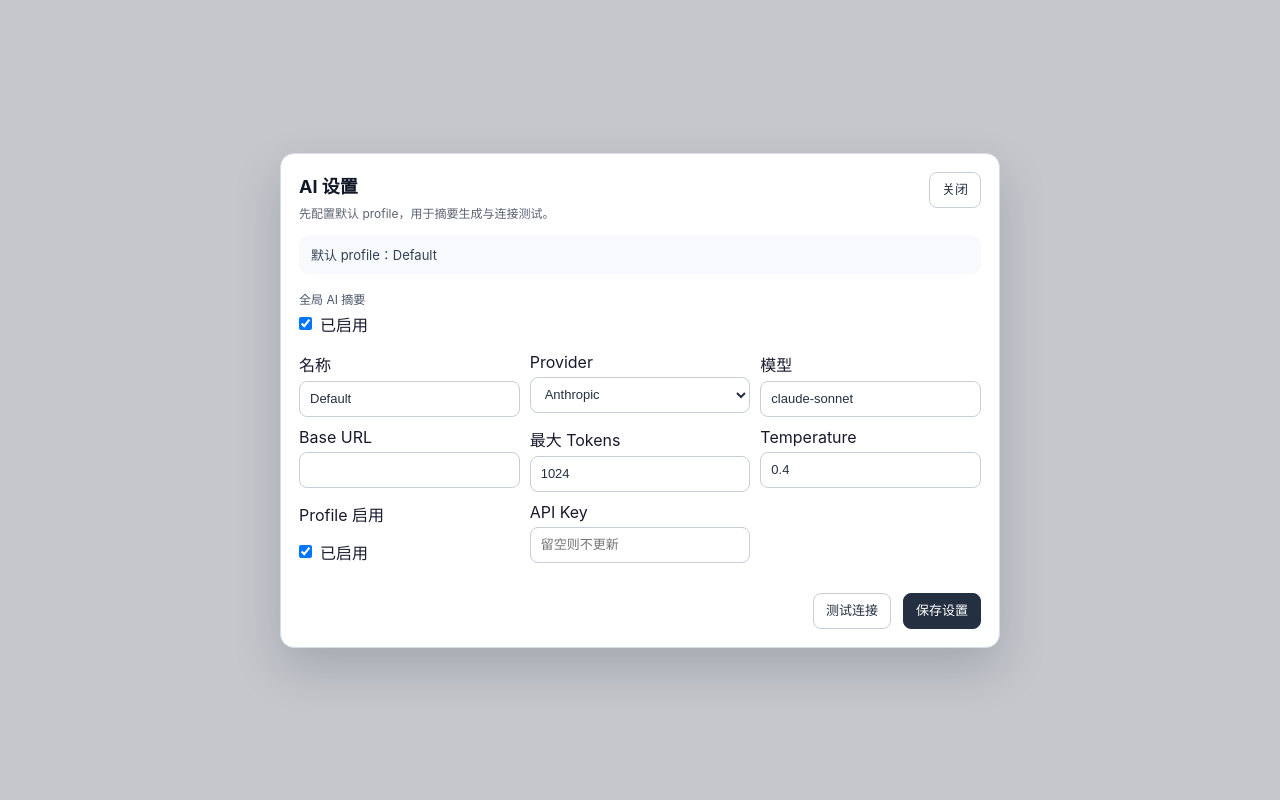
Test: AiSettingsDialog › tests the current form values before saving
Replace the text in the field labelled "名称" with "Draft Profile": (409, 398) x1=299 y1=380 x2=520 y2=416
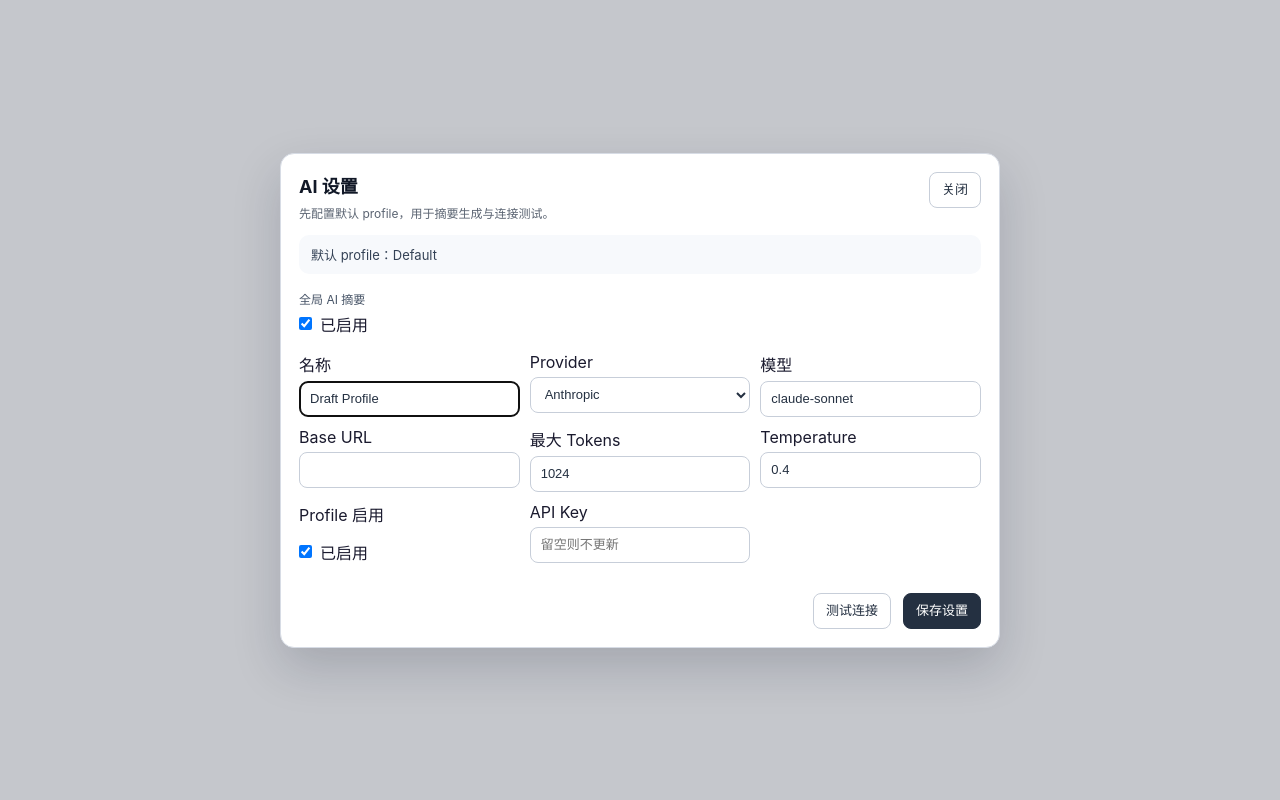
Replace the text in the field labelled "模型" with "claude-3-7-sonnet": (871, 398) x1=760 y1=380 x2=981 y2=416
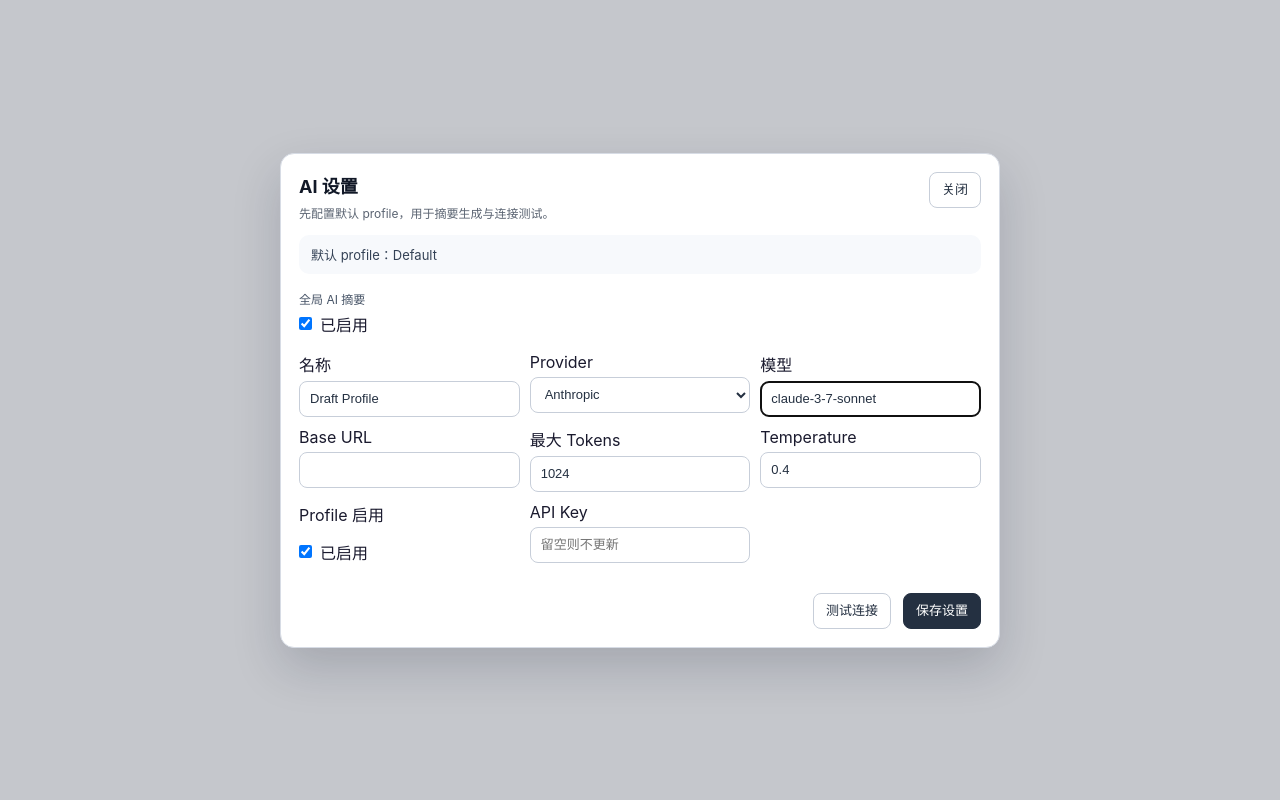
In the password field labelled "API Key": (640, 544) x1=530 y1=526 x2=750 y2=562, type "sk-live-test"
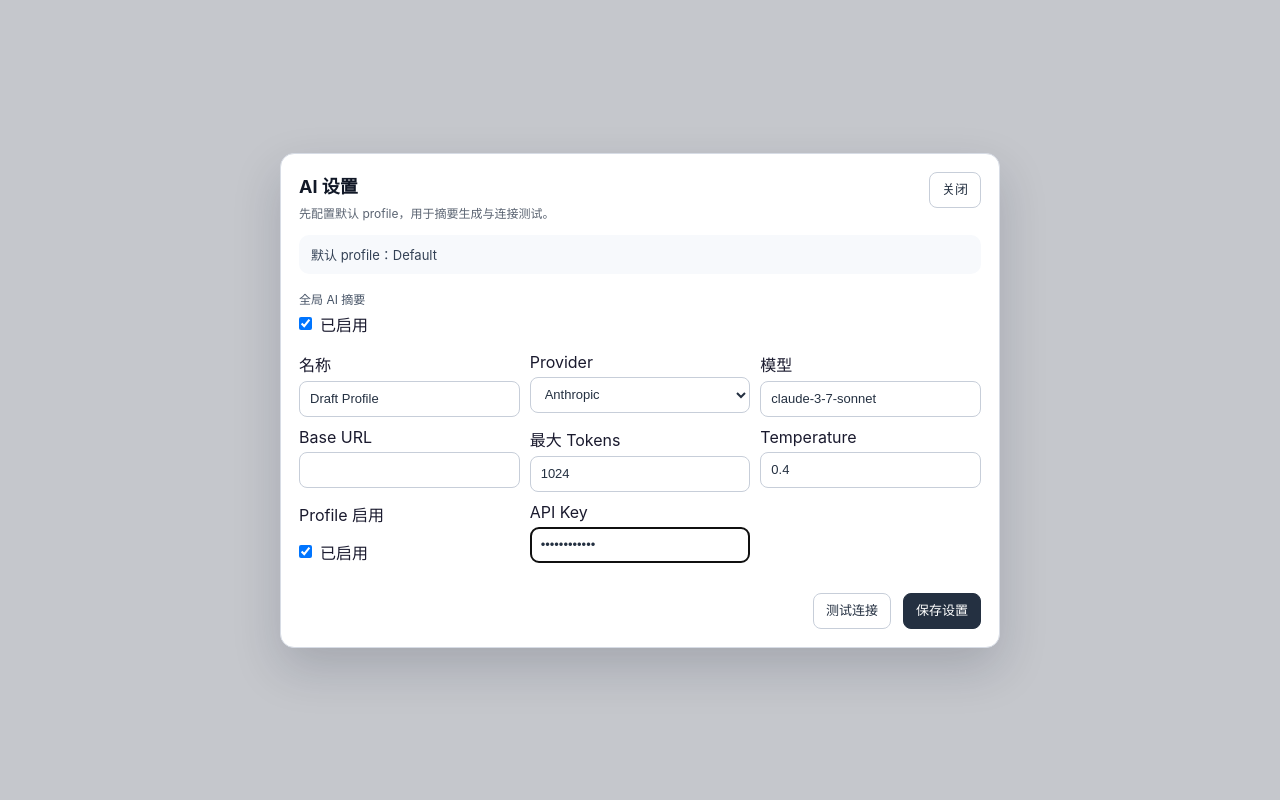
Click the button "测试连接": click(852, 610) x1=813 y1=592 x2=891 y2=628
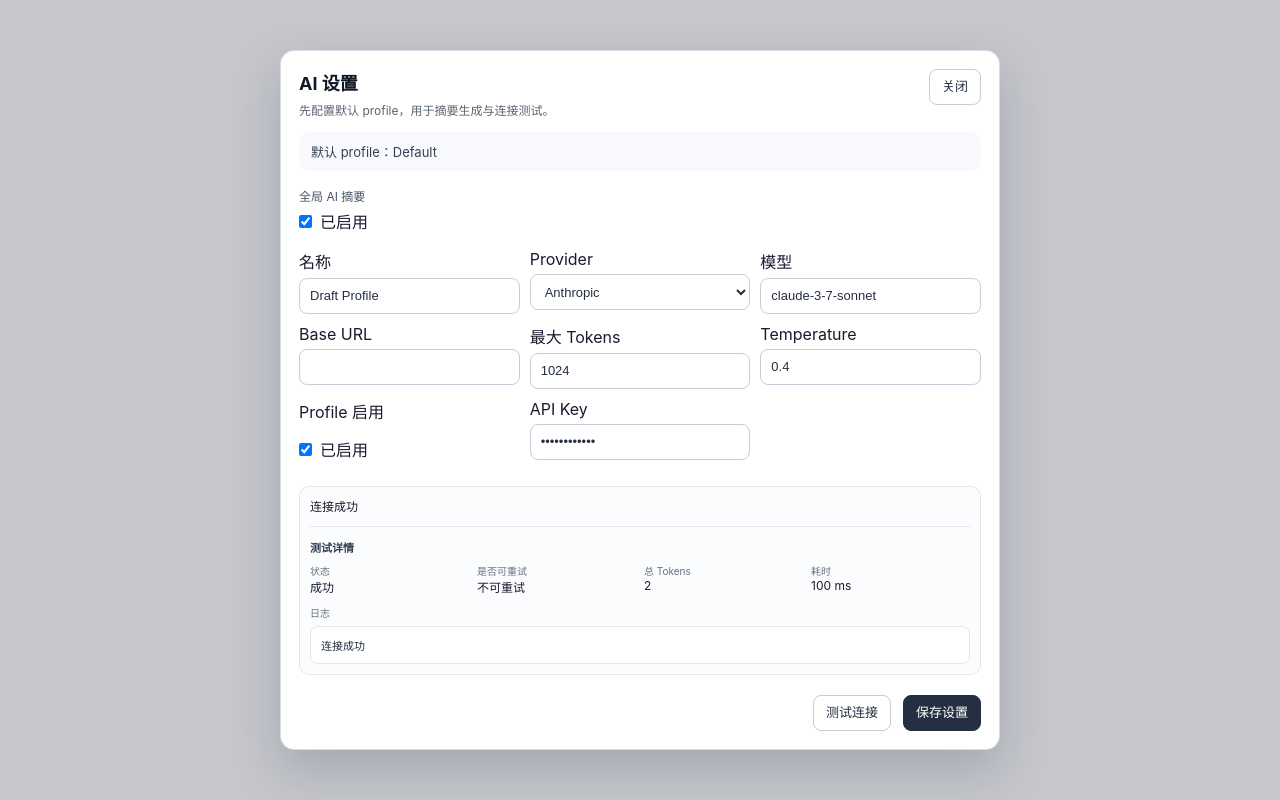
Result: the text "连接成功" below "日志" is shown at x1=321 y1=640 x2=365 y2=653
